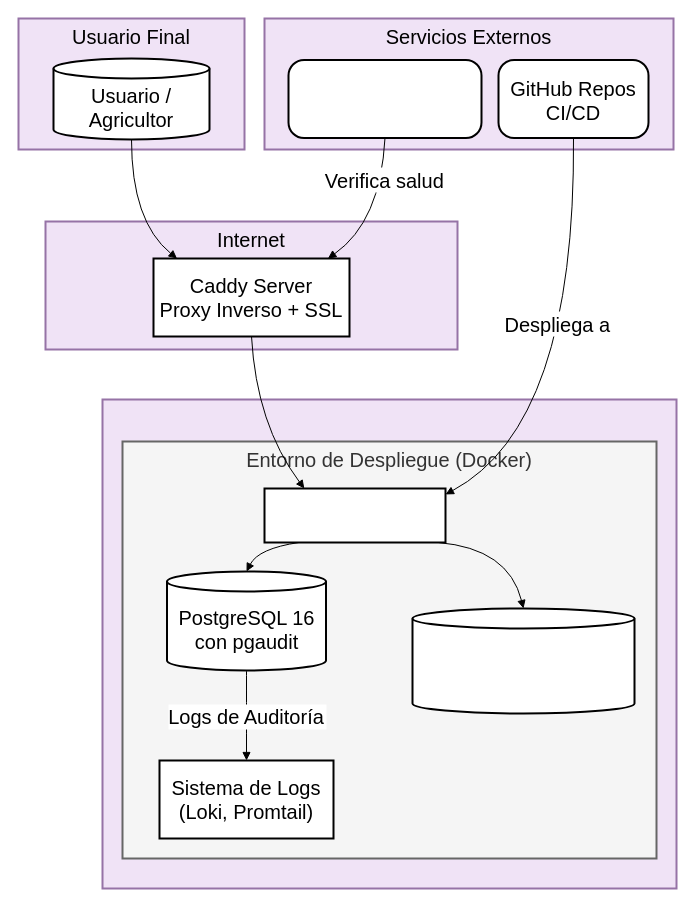
The diagram is 694 pixels wide and 906 high, and some of its shapes have lost their labels. The box of each missing label's shape, as (x1, y1, x2, y2) in pixels:
Almacenamiento de Objetos S3-Compatible: (411, 607, 635, 714)
Monitoreo Externo ej. OneUptime: (287, 58, 482, 138)
Proveedor de Cloud (VPS): (101, 398, 677, 889)
WebApp (.NET 8): (263, 487, 446, 543)
